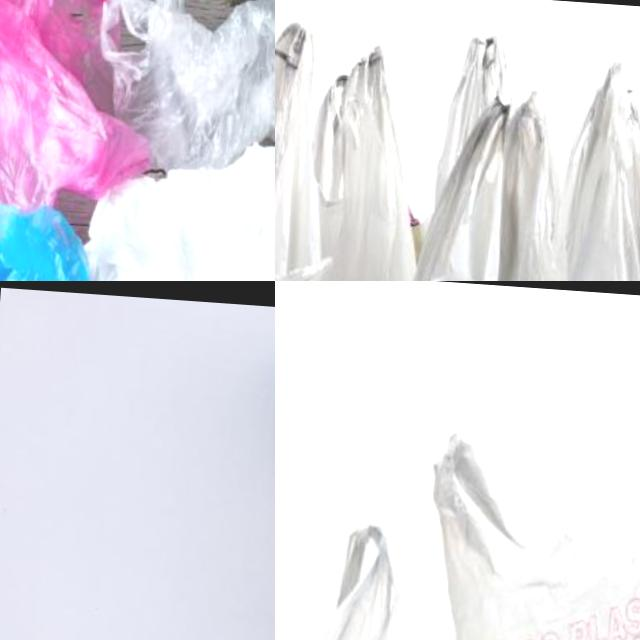sacola plástica: (400, 291, 640, 640), (347, 37, 622, 281), (275, 21, 433, 281), (275, 419, 417, 640), (93, 0, 275, 160), (0, 0, 136, 208), (66, 151, 275, 281), (536, 71, 640, 281)
